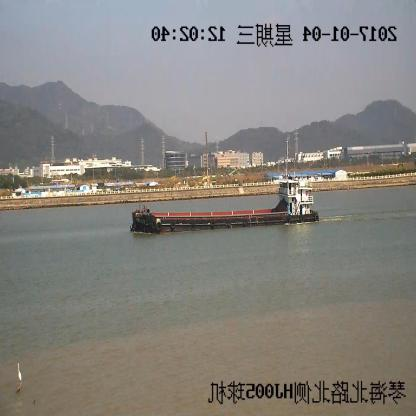Bulk Carrier: (130, 176, 319, 232)
